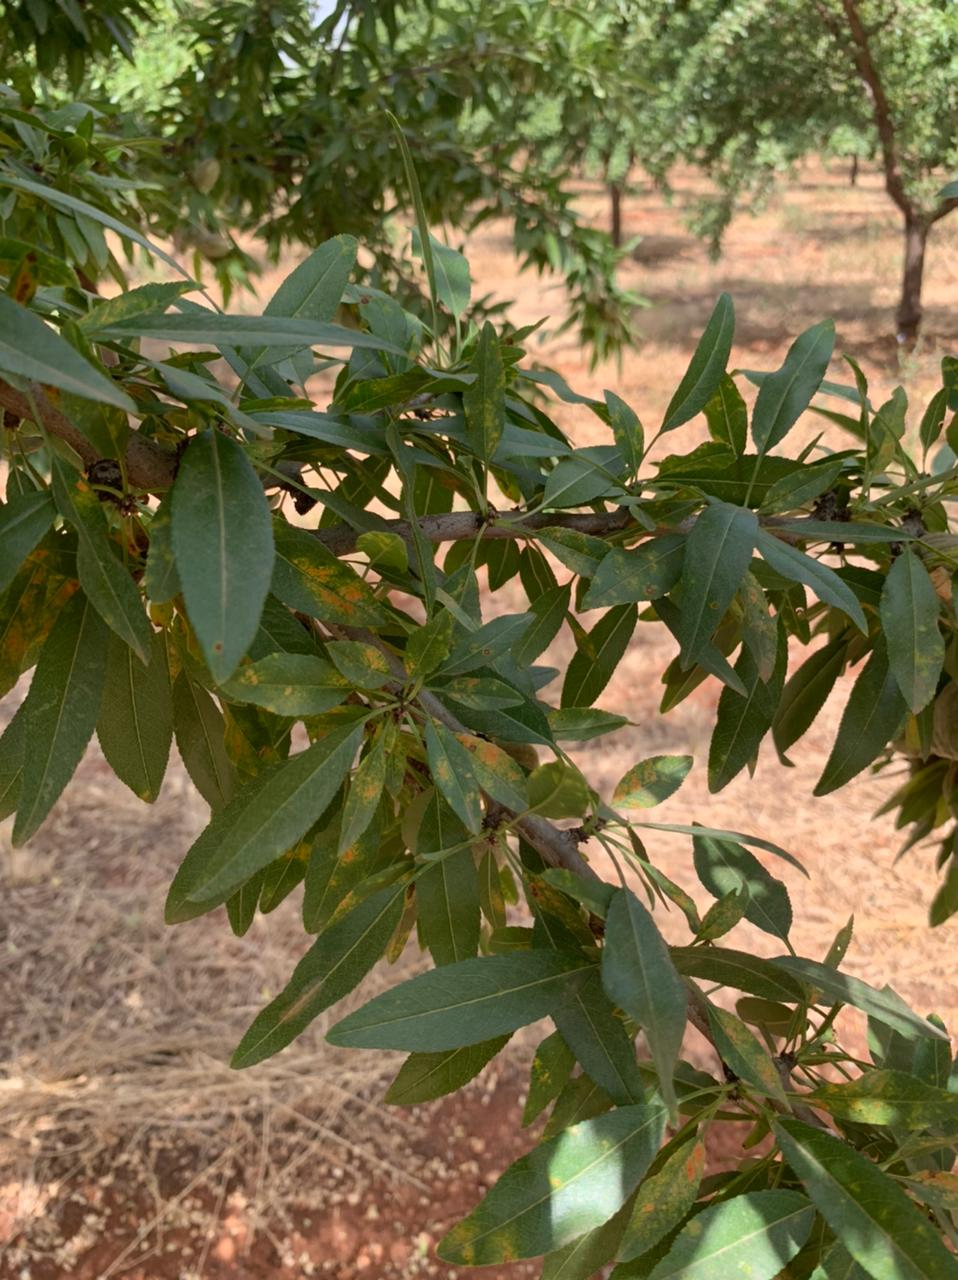polystigma: (529, 879, 794, 979), (555, 590, 654, 819), (167, 248, 362, 337), (6, 183, 110, 319), (252, 756, 401, 848), (224, 637, 325, 769), (383, 777, 494, 857)
